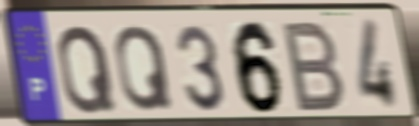3: (173, 22, 229, 114)
4: (354, 16, 400, 115)
6: (230, 17, 289, 117)
B: (281, 18, 348, 115)
Q: (55, 22, 119, 117), (113, 22, 177, 114)
